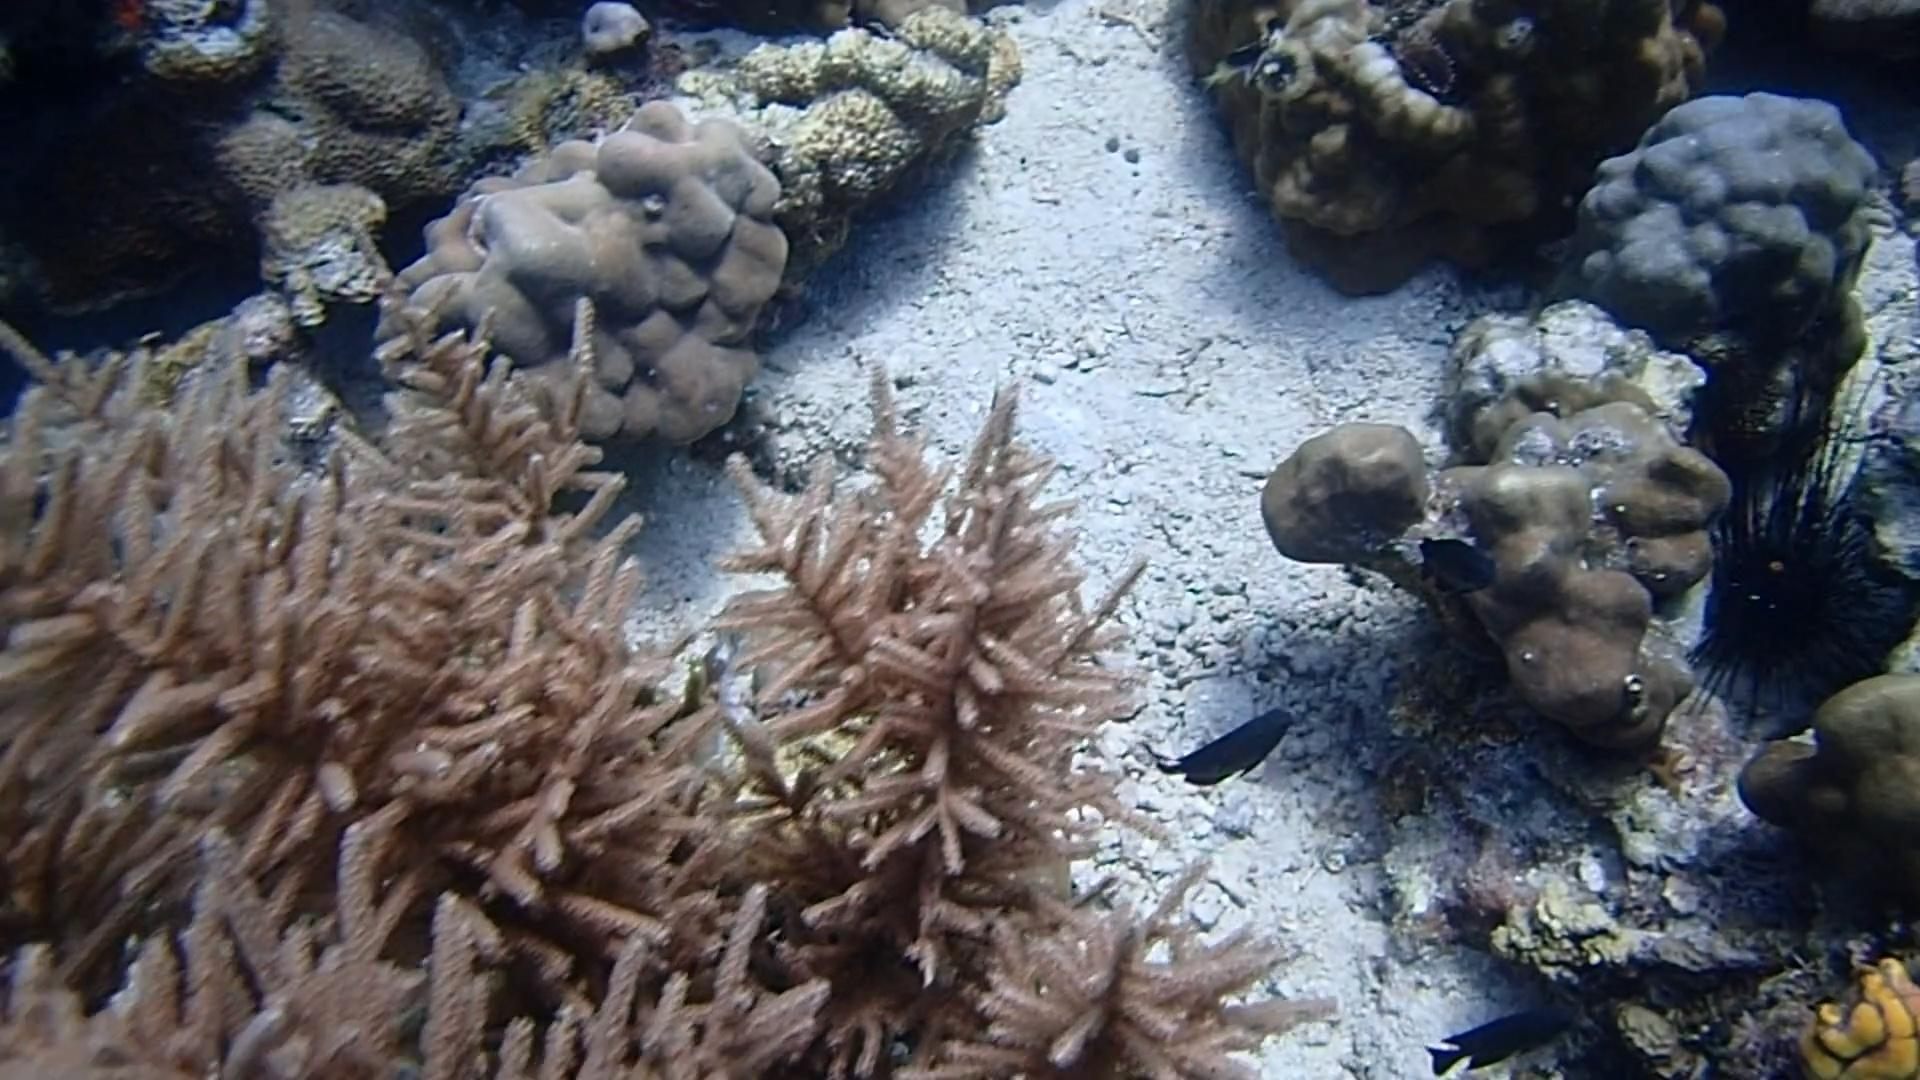Dark Fish: (1145, 698, 1302, 795), (1422, 994, 1584, 1080), (1410, 526, 1511, 608)
Yellow Tail: (1183, 28, 1284, 102)
